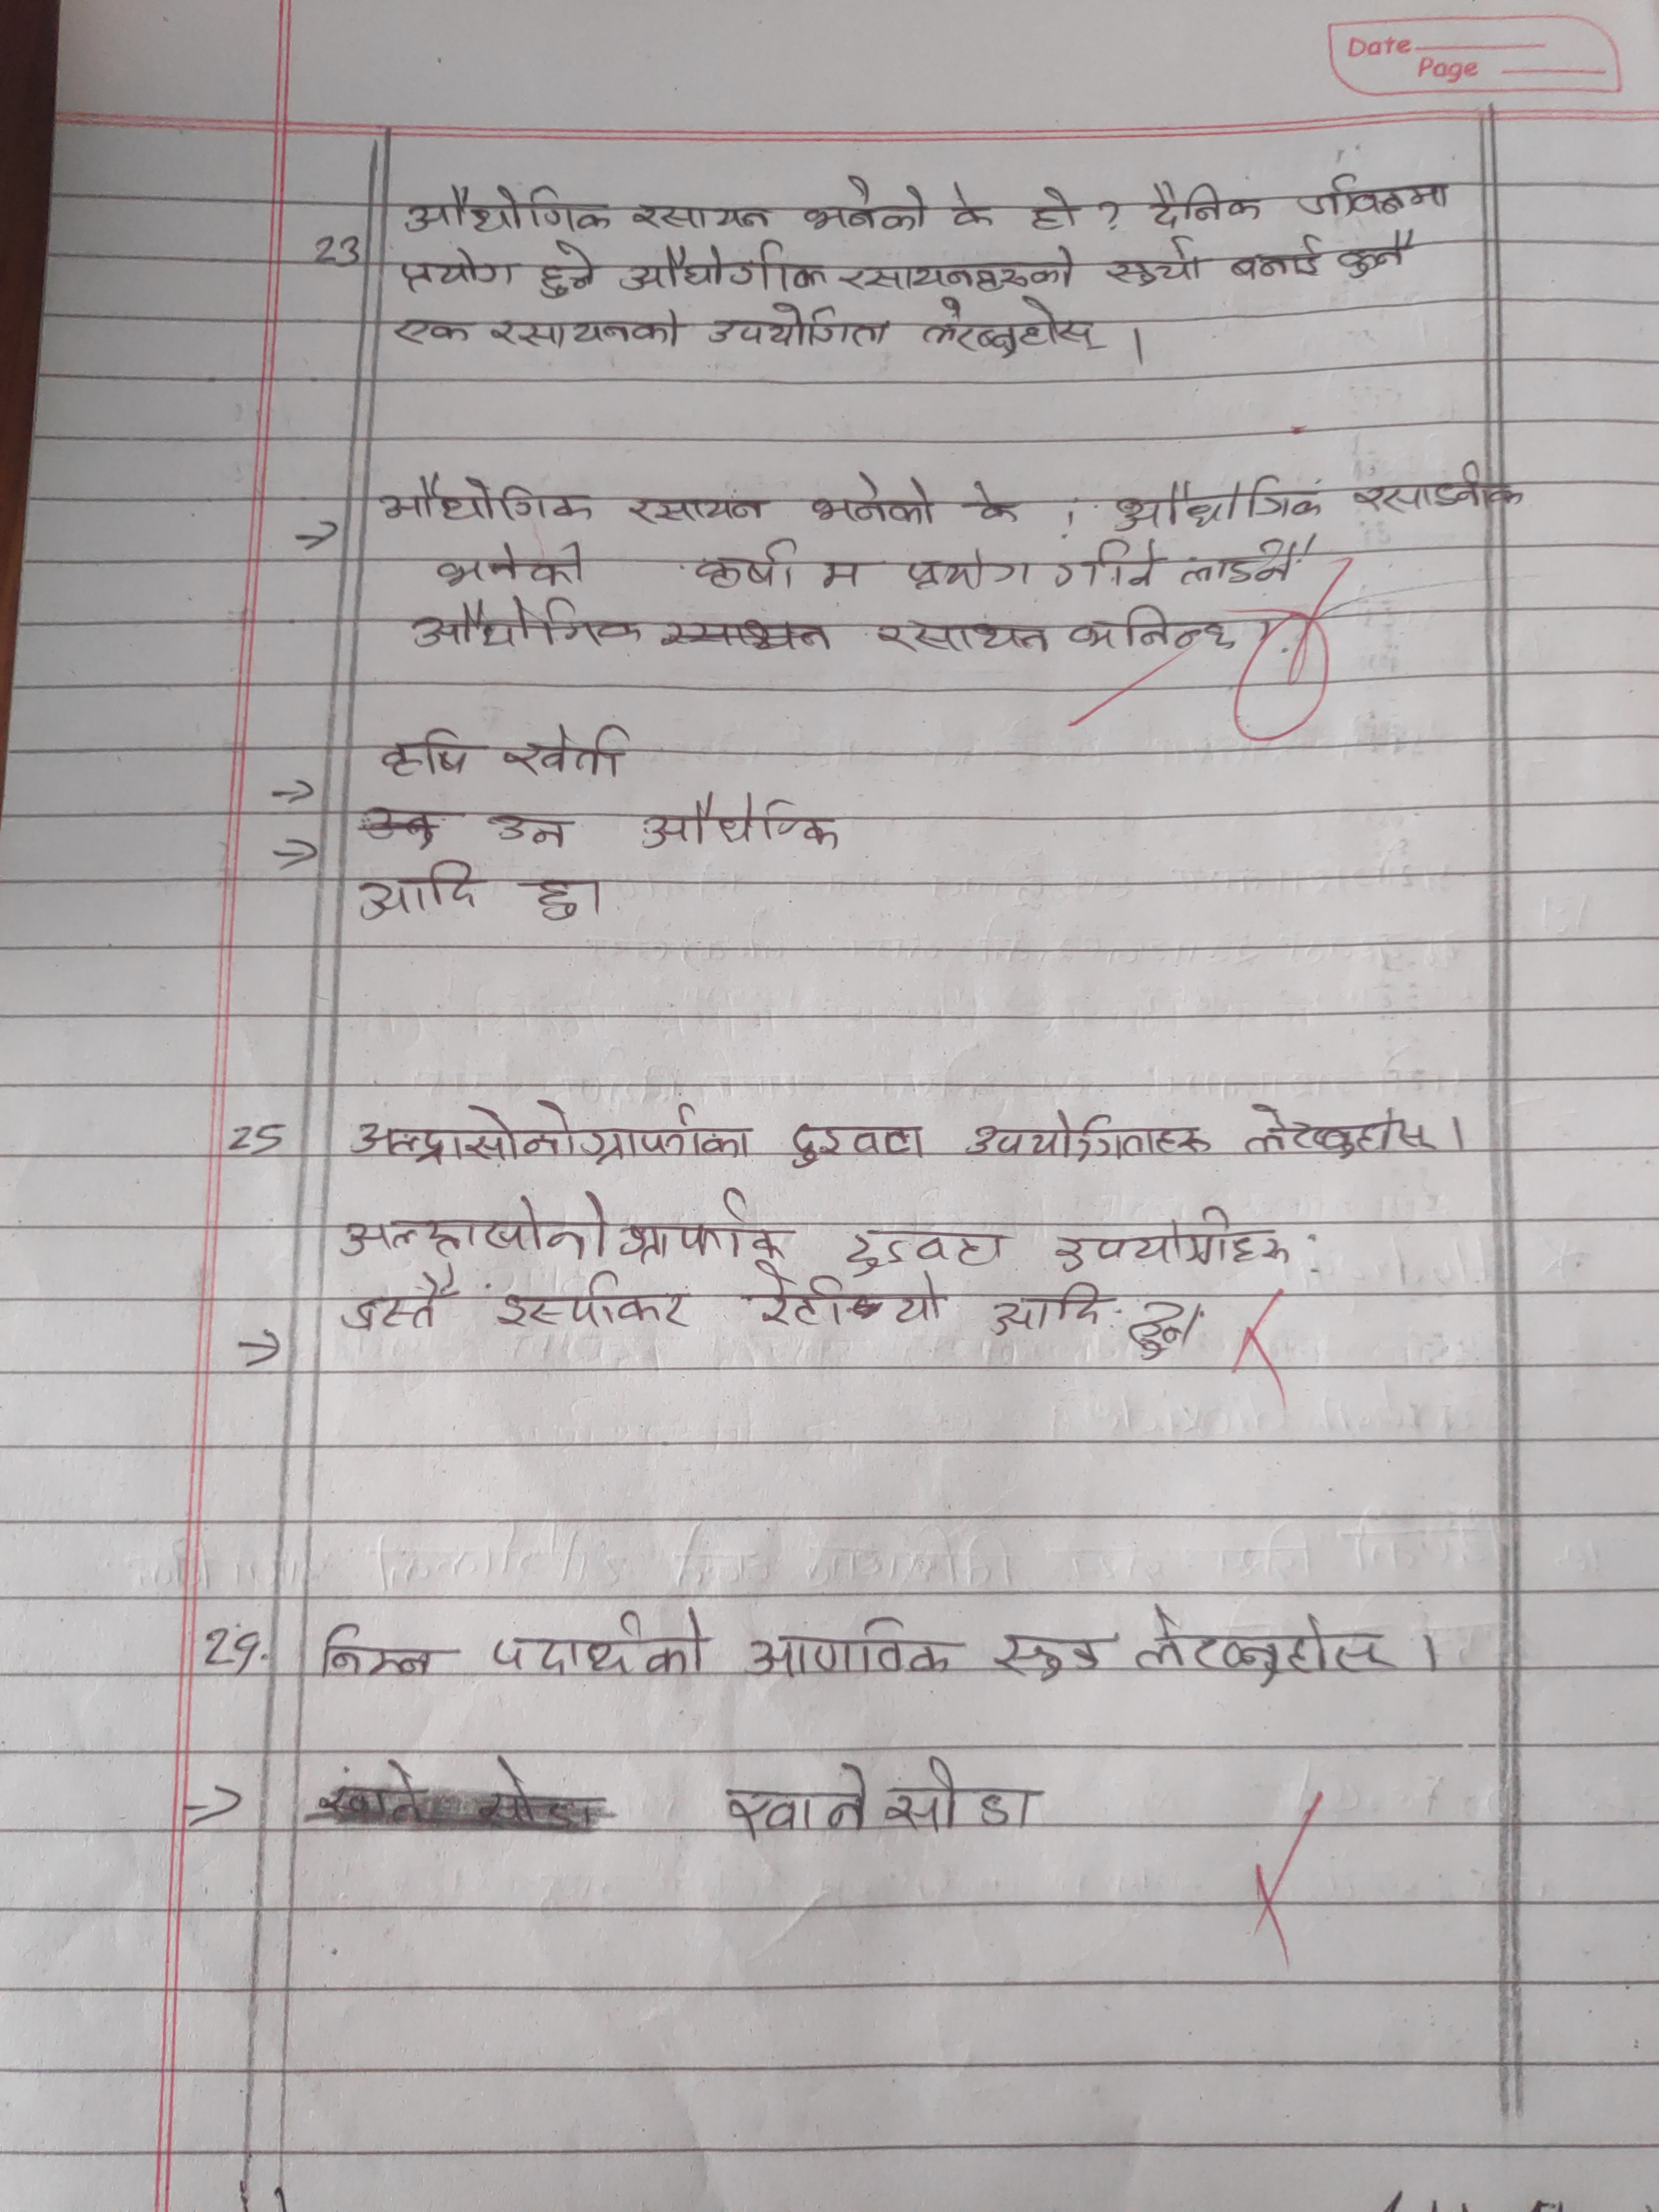text: (342, 1191, 788, 1271), (711, 1752, 1060, 1844), (350, 1099, 758, 1165), (1127, 1604, 1413, 1686), (1049, 1202, 1293, 1271), (399, 590, 647, 658), (735, 1613, 965, 1683), (488, 1608, 714, 1677), (633, 787, 842, 857), (486, 1264, 690, 1336), (397, 174, 617, 240), (744, 1261, 946, 1332), (369, 470, 598, 531), (1101, 470, 1331, 529), (835, 242, 1084, 294), (920, 296, 1117, 361), (960, 1109, 1215, 1158), (491, 300, 687, 361), (701, 296, 901, 355), (1065, 594, 1241, 658), (617, 242, 831, 294), (1236, 1103, 1424, 1162), (1344, 462, 1525, 521), (303, 1615, 453, 1683), (838, 1223, 1018, 1277), (796, 171, 934, 239), (875, 610, 1058, 660), (500, 725, 640, 787), (803, 470, 943, 531), (434, 540, 596, 592), (1295, 171, 1460, 221), (342, 1266, 464, 1334), (356, 860, 488, 921), (784, 1113, 929, 1169), (1143, 171, 1272, 232), (992, 1616, 1110, 1683), (897, 543, 1037, 599), (990, 1280, 1108, 1343), (1180, 538, 1324, 589), (629, 188, 784, 233), (690, 542, 805, 601), (1053, 529, 1161, 592), (394, 246, 523, 296), (620, 491, 782, 531), (1100, 235, 1211, 291), (375, 719, 479, 779), (1326, 223, 1422, 282), (1127, 1299, 1211, 1364), (1230, 235, 1333, 286), (511, 869, 591, 927), (533, 240, 605, 305), (957, 474, 1030, 533), (490, 805, 579, 852), (945, 172, 1004, 240), (390, 314, 477, 357), (1026, 181, 1087, 235), (816, 547, 875, 589)
